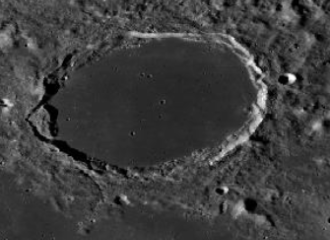crater: (12, 15, 278, 194)
